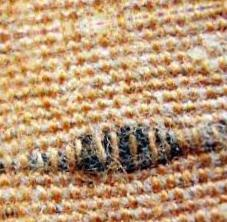slub: (1, 120, 227, 177)
